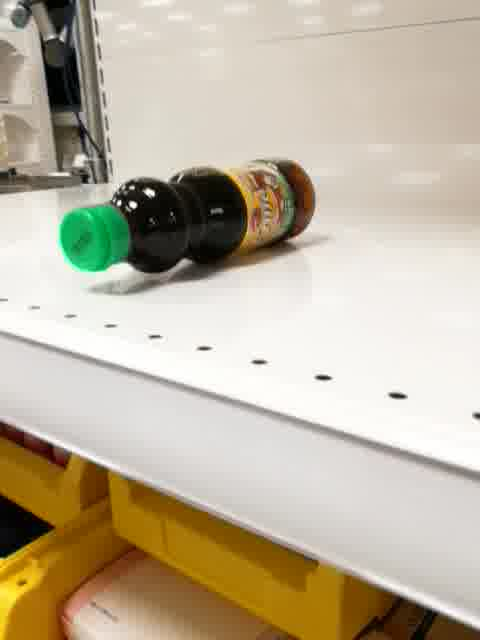cookingoil: (57, 153, 318, 276)
